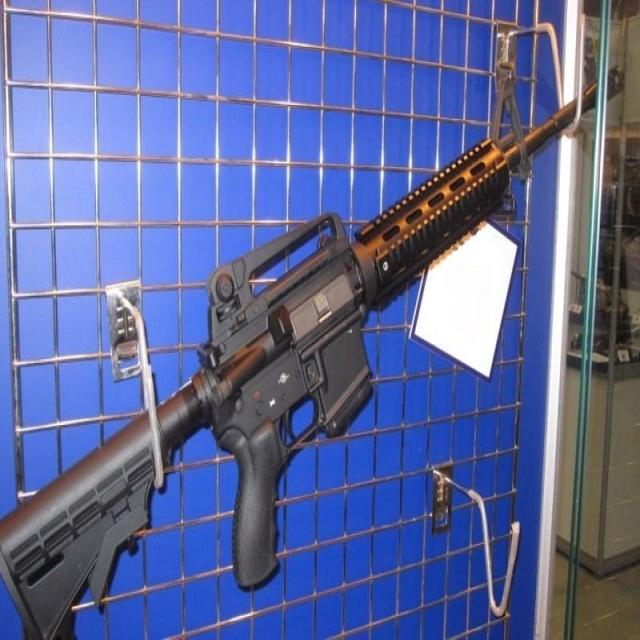firearm: (0, 60, 627, 640)
